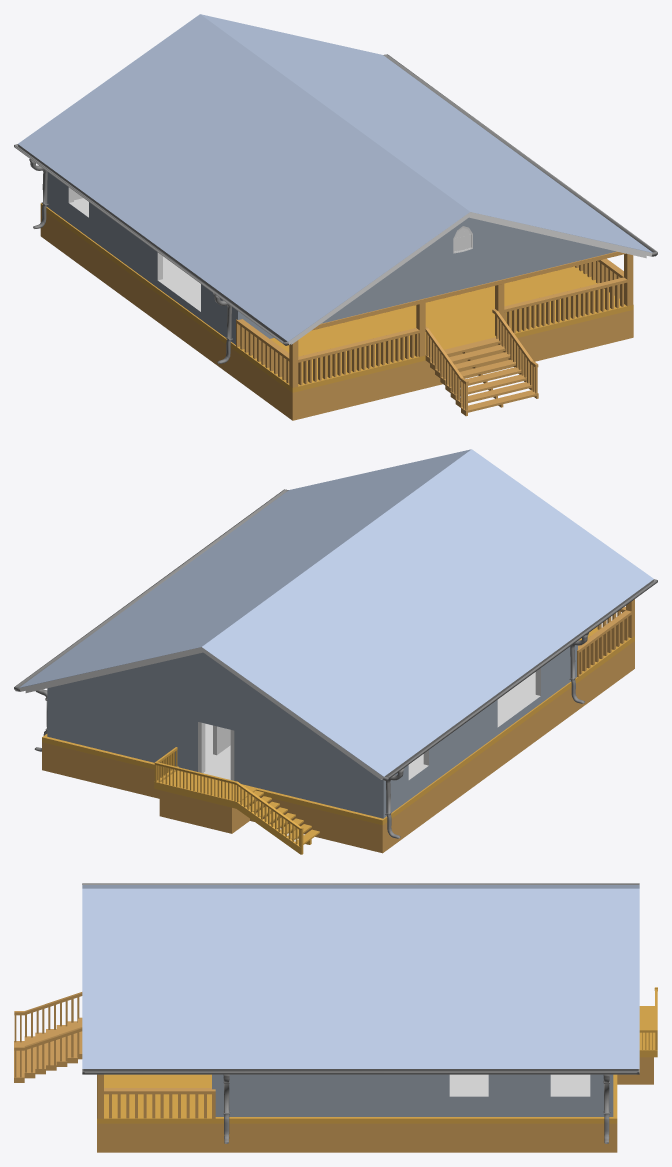
The model's file is house_temp.gltf.
3 renders of one model, top to bottom at view 1: azimuth 30°, elevation 25°; view 2: azimuth 150°, elevation 25°; view 3: azimuth 270°, elevation 25°, orthographic. The views are drawn at different scales.
Visible parts, largest first — view 1: shingles, porch rails, foundation.001, porch, roof gables, siding, porch front steps, gutters, foundation.002, roof, living room floor, walls; view 2: shingles, siding, foundation.001, roof gables, foundation.002, gutters, roof, porch rails, walls, living room floor, kitchen floor; view 3: shingles, foundation.001, siding, foundation.002, gutters, porch rails, porch, porch front steps, master bedroom floor, gutters.004, gutters.003.
Boxes of the visible parts, <box> form: shingles: <box>18,14,652,341</box>; porch rails: <box>236,251,633,410</box>; foundation.001: <box>40,209,633,420</box>; porch: <box>238,266,626,386</box>; roof gables: <box>321,217,616,323</box>; siding: <box>47,172,273,344</box>; porch front steps: <box>425,337,538,416</box>; gutters: <box>14,54,657,345</box>; foundation.002: <box>40,203,633,392</box>; roof: <box>288,212,651,344</box>; living room floor: <box>163,259,200,306</box>; walls: <box>68,187,200,311</box>; shingles: <box>19,449,653,776</box>; siding: <box>47,645,577,818</box>; foundation.001: <box>42,641,634,853</box>; roof gables: <box>55,652,351,759</box>; foundation.002: <box>42,636,634,854</box>; gutters: <box>14,489,657,780</box>; roof: <box>20,647,383,779</box>; porch rails: <box>577,599,634,676</box>; walls: <box>198,668,540,780</box>; living room floor: <box>497,672,535,722</box>; kitchen floor: <box>203,745,423,779</box>; shingles: <box>82,885,639,1068</box>; foundation.001: <box>97,1057,653,1152</box>; siding: <box>212,1074,613,1116</box>; foundation.002: <box>97,987,657,1123</box>; gutters: <box>82,883,639,1074</box>; porch rails: <box>14,992,215,1118</box>; porch: <box>104,1074,211,1118</box>; porch front steps: <box>14,1017,82,1082</box>; master bedroom floor: <box>449,1074,590,1093</box>; gutters.004: <box>223,1074,230,1143</box>; gutters.003: <box>603,1074,610,1143</box>.
Bounding box in the file's own units: 21.57 × 9.64 × 31.21.
